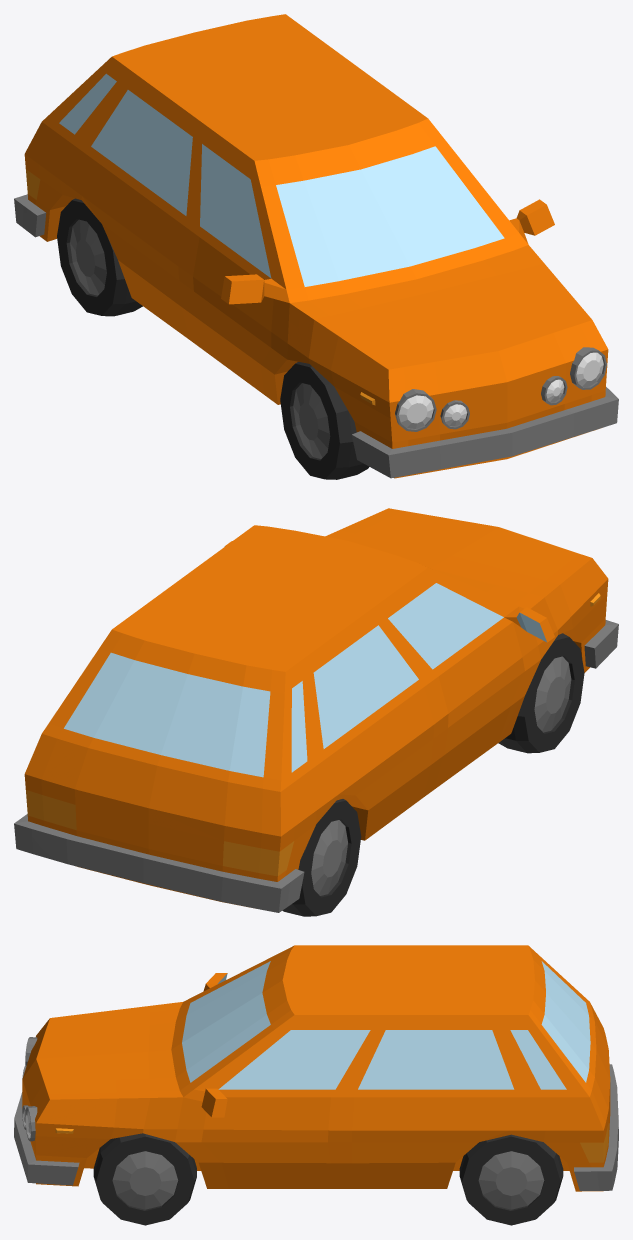
Rendered from car_orange.glb.
3 renders of one model, top to bottom at view 1: azimuth 30°, elevation 25°; view 2: azimuth 150°, elevation 25°; view 3: azimuth 270°, elevation 25°, orthographic. The views are drawn at different scales.
Parts seen in each view (by area): view 1: 1377 Car; view 2: 1377 Car; view 3: 1377 Car.
Part boxes in pixels (<box>): 1377 Car: <box>14,14,618,479</box>; 1377 Car: <box>14,508,618,916</box>; 1377 Car: <box>14,945,618,1225</box>.
Bounding box in the file's own units: 45.5 × 32.33 × 89.11.
Materials: 1 (1 with a texture image).
